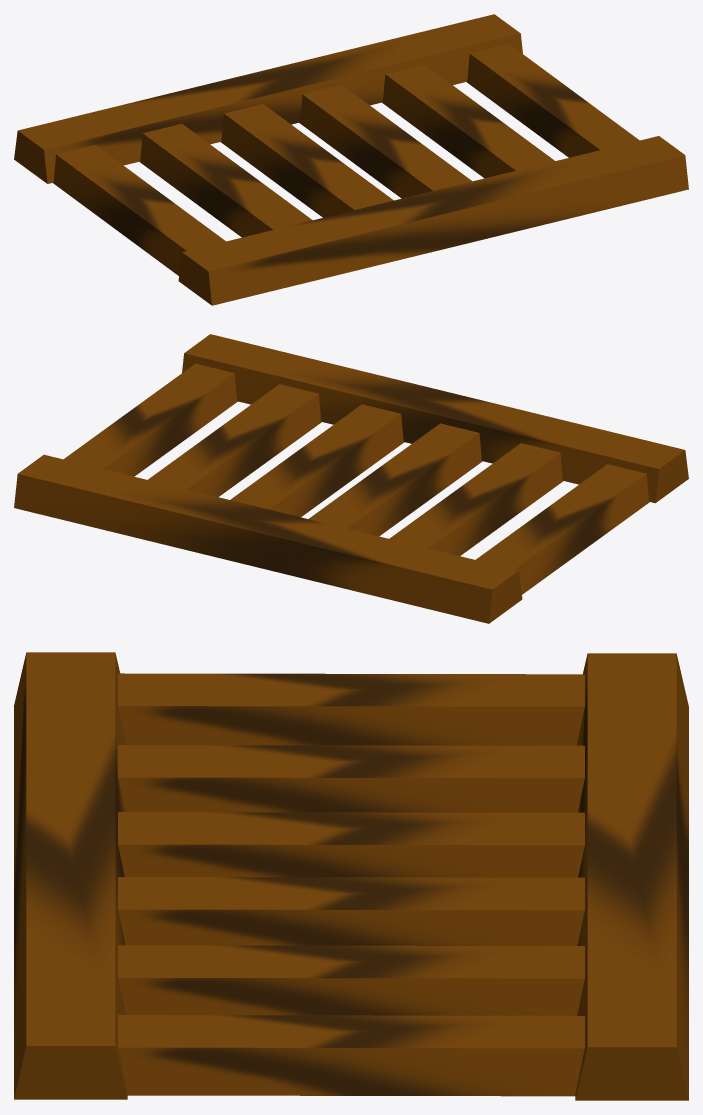
Rendered from train track straight.fbx.
The picture shows the model from 3 angles, top to bottom: view 1: azimuth 30°, elevation 25°; view 2: azimuth 150°, elevation 25°; view 3: azimuth 270°, elevation 25°; orthographic projection. The views are drawn at different scales.
Parts seen in each view (by area): view 1: polySurface158; view 2: polySurface158; view 3: polySurface158.
Boxes of the visible parts, <box> form: polySurface158: <box>14,14,688,305</box>; polySurface158: <box>14,334,688,623</box>; polySurface158: <box>14,652,688,1100</box>.
Size of the model in its own units: 4.21 by 0.2734 by 3.04.
Materials: 1 (1 with a texture image).
